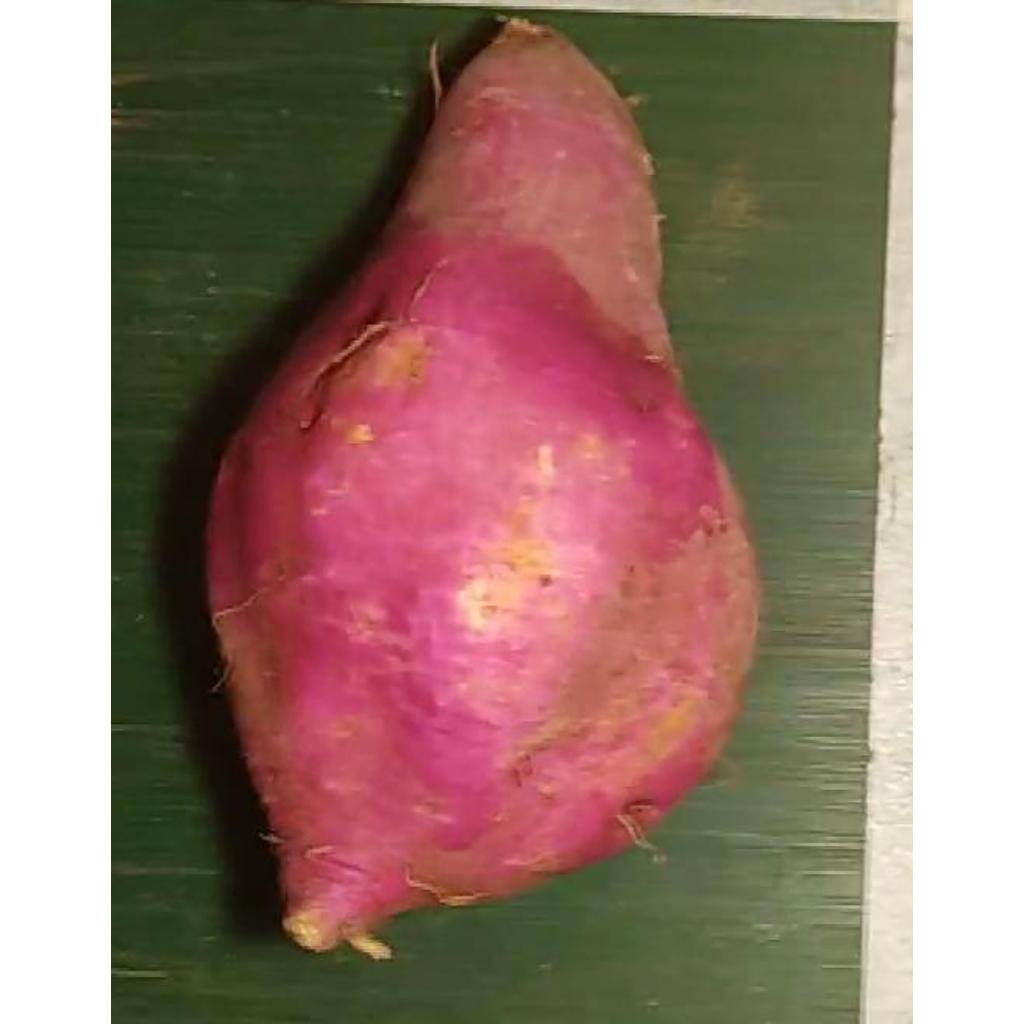Sweet Potato: (203, 20, 763, 962)
